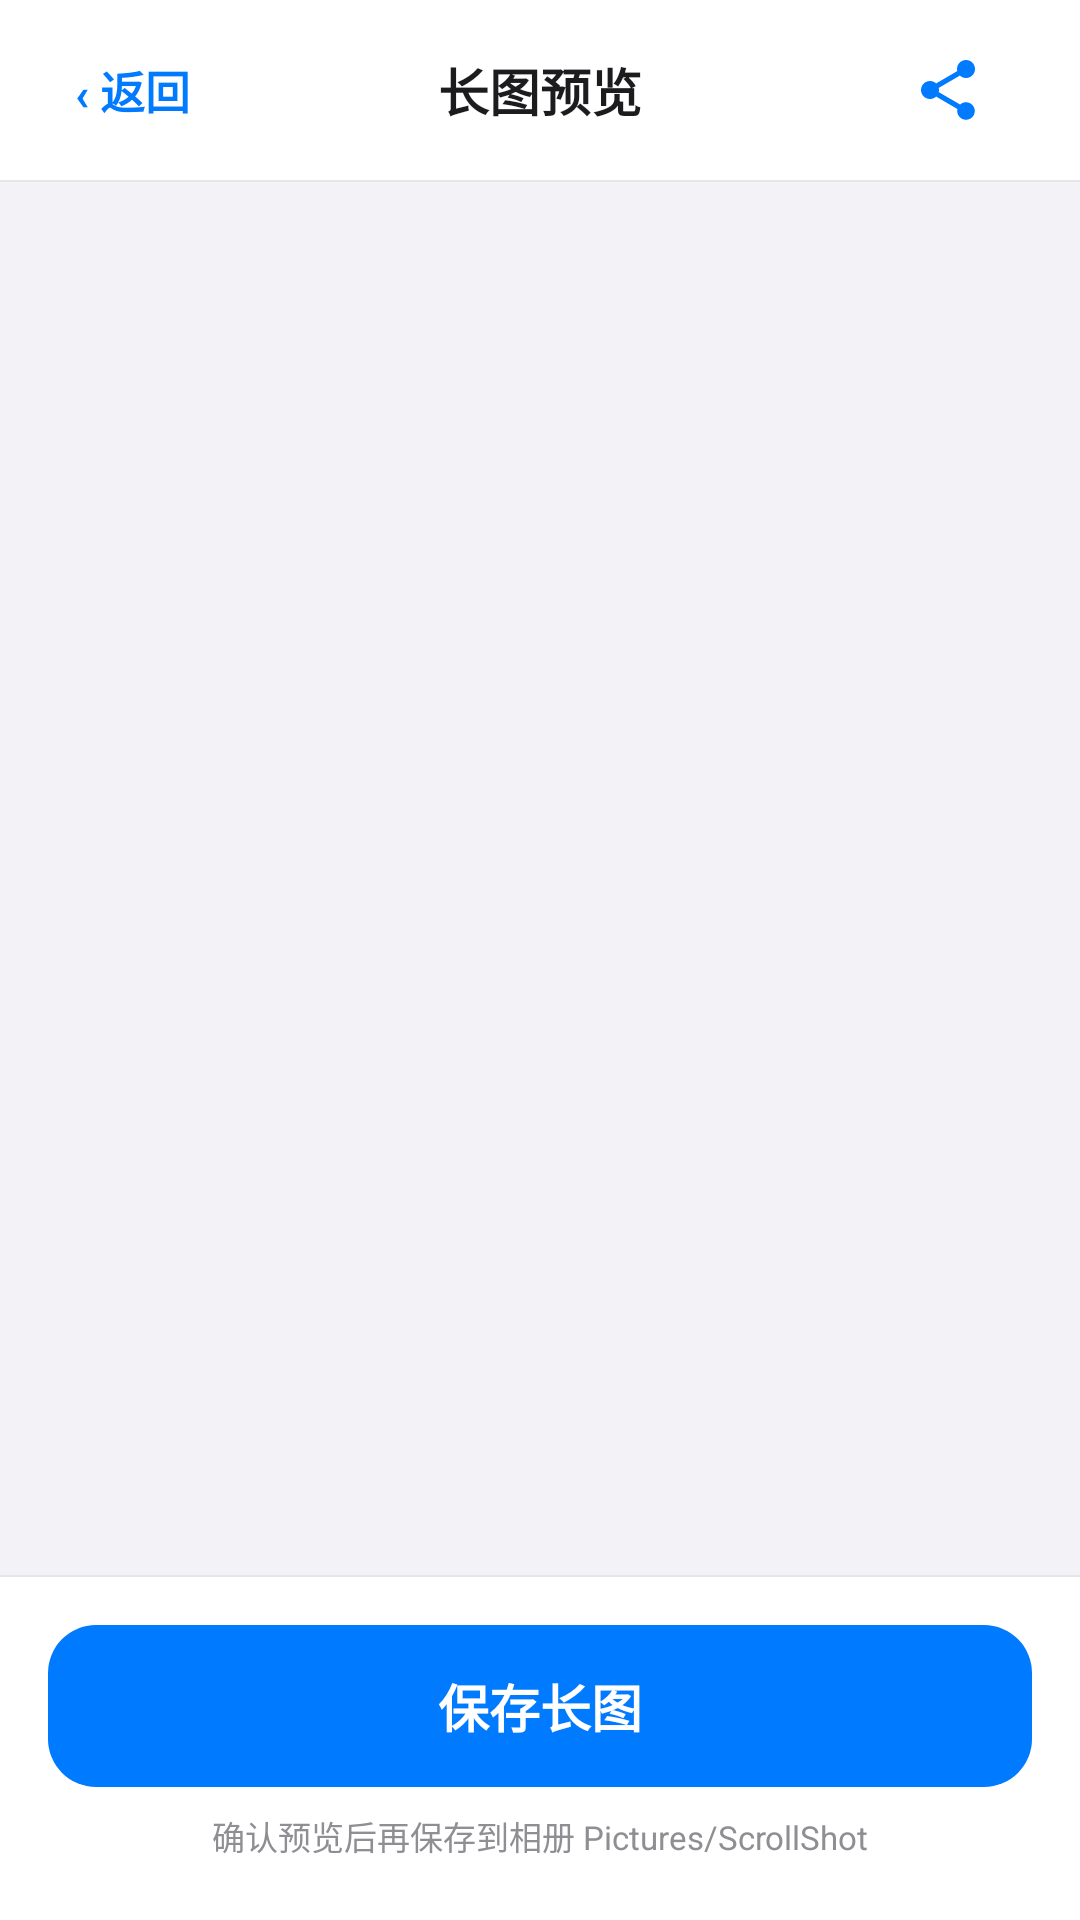

Icon bounding boxes for this 1080x1920 phone screenshot, format BBox(x1, y1, x2, y2):
分享长图: BBox(921, 60, 975, 120)
